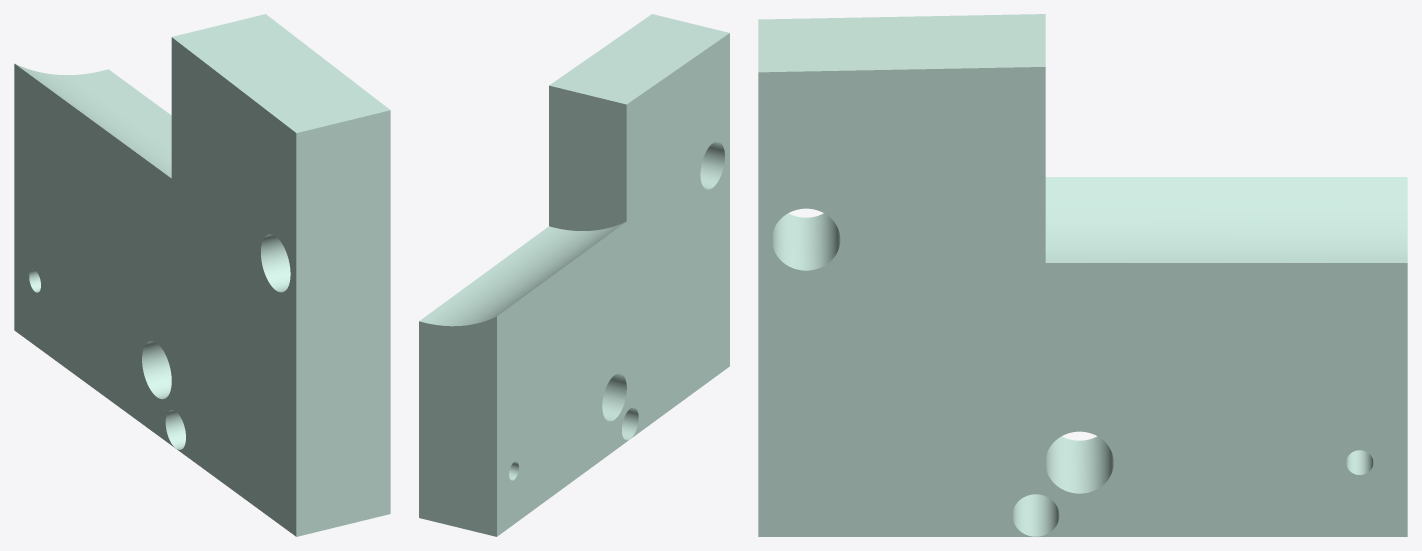
3 renders of one model, left to right at view 1: azimuth 30°, elevation 25°; view 2: azimuth 150°, elevation 25°; view 3: azimuth 270°, elevation 25°, orthographic. The views are drawn at different scales.
Visible parts, largest first — view 1: Renderer Node; view 2: Renderer Node; view 3: Renderer Node.
Boxes of the visible parts, x1,y1,x2,y2 form: Renderer Node: (14, 14, 390, 536); Renderer Node: (419, 14, 729, 536); Renderer Node: (758, 14, 1407, 536).
Size of the model in its own units: 0.2891 by 1.2 by 1.5.
